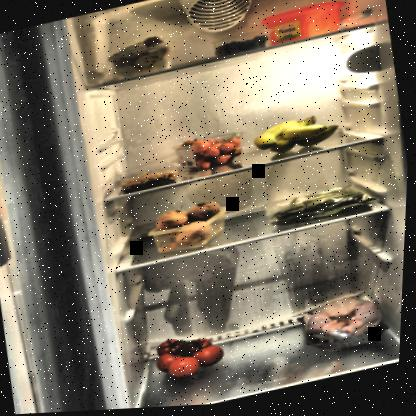banana: (250, 112, 347, 163)
blueberries: (213, 31, 273, 60)
butter: (258, 0, 350, 51)
chicken: (298, 291, 398, 362)
green_beans: (259, 184, 378, 238)
mushrooms: (106, 28, 182, 89)
onion: (152, 200, 229, 255)
shrimp: (120, 165, 180, 197)
strawberries: (176, 129, 251, 176)
tomato: (153, 327, 234, 386)
